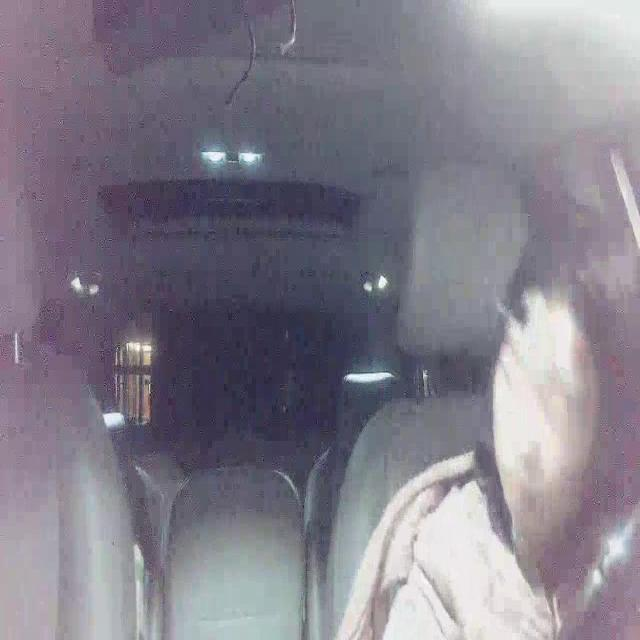Inattentive: (482, 218, 640, 542)
